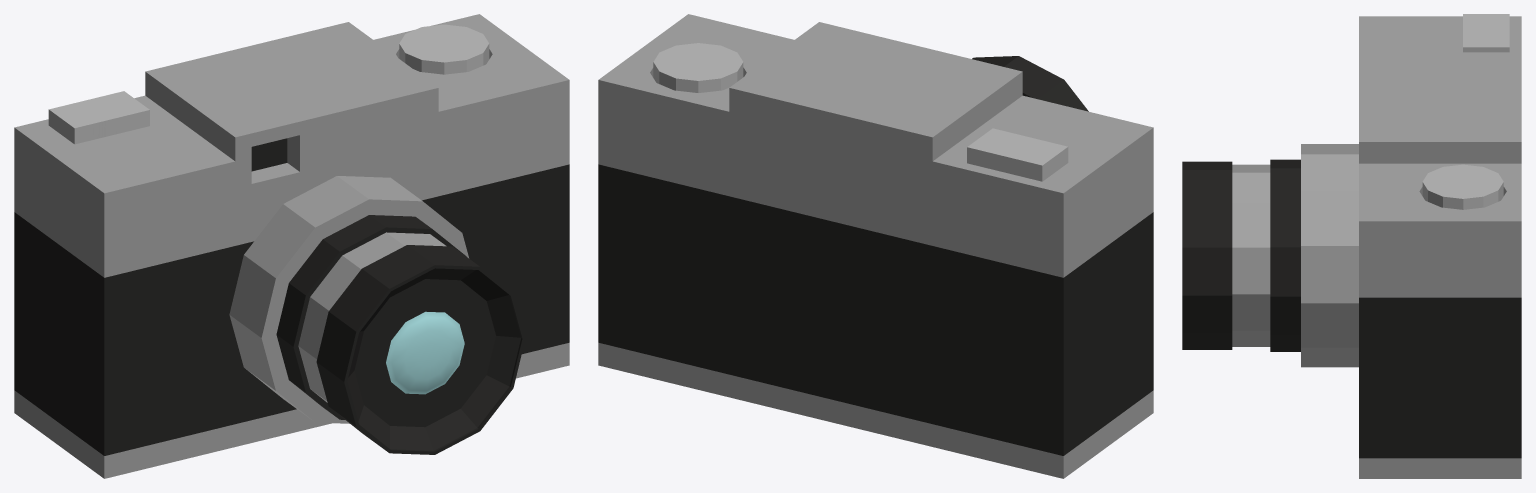
The model's file is camera.glb.
3 renders of one model, left to right at view 1: azimuth 30°, elevation 25°; view 2: azimuth 150°, elevation 25°; view 3: azimuth 270°, elevation 25°, orthographic. The views are drawn at different scales.
Parts seen in each view (by area): view 1: CameraMain, Lens, Button1, Button2; view 2: CameraMain, Button1, Button2, Lens; view 3: CameraMain, Lens, Button1, Button2.
Part boxes in pixels (left/top/right/bottom): CameraMain: left=14, top=14, right=569, bottom=478; Lens: left=229, top=176, right=525, bottom=454; Button1: left=399, top=24, right=489, bottom=74; Button2: left=48, top=91, right=149, bottom=144; CameraMain: left=598, top=14, right=1153, bottom=478; Button1: left=653, top=43, right=743, bottom=92; Button2: left=967, top=128, right=1068, bottom=181; Lens: left=972, top=56, right=1088, bottom=111; CameraMain: left=1359, top=16, right=1521, bottom=478; Lens: left=1182, top=144, right=1358, bottom=367; Button1: left=1422, top=164, right=1503, bottom=209; Button2: left=1463, top=14, right=1509, bottom=52.
Bounding box in the file's own units: 3.41 × 2.17 × 2.39.
